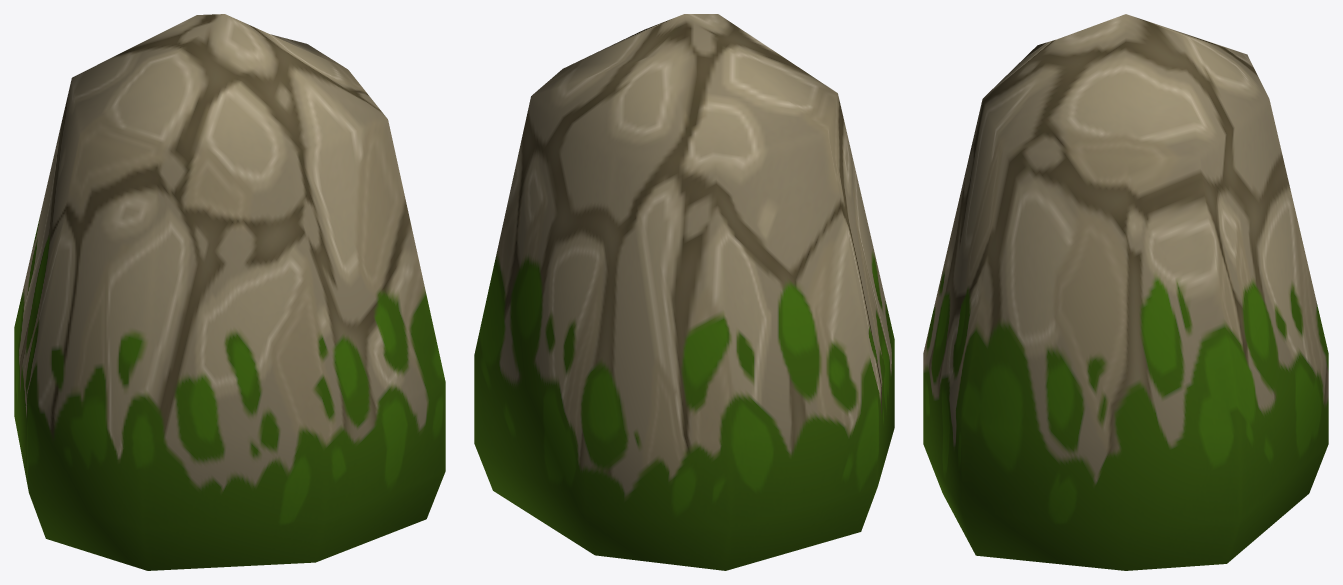
The model's file is Rock_03.FBX.
3 views of the same model, side by side, from view 1: azimuth 30°, elevation 25°; view 2: azimuth 150°, elevation 25°; view 3: azimuth 270°, elevation 25° (orthographic).
Parts seen in each view (by area): view 1: Rock_03; view 2: Rock_03; view 3: Rock_03.
Boxes of the visible parts, box(x1,y1,x2,y2) form: Rock_03: box(14, 14, 445, 570); Rock_03: box(474, 14, 894, 570); Rock_03: box(923, 14, 1328, 570).
Size of the model in its own units: 28.12 by 34.86 by 26.69.
